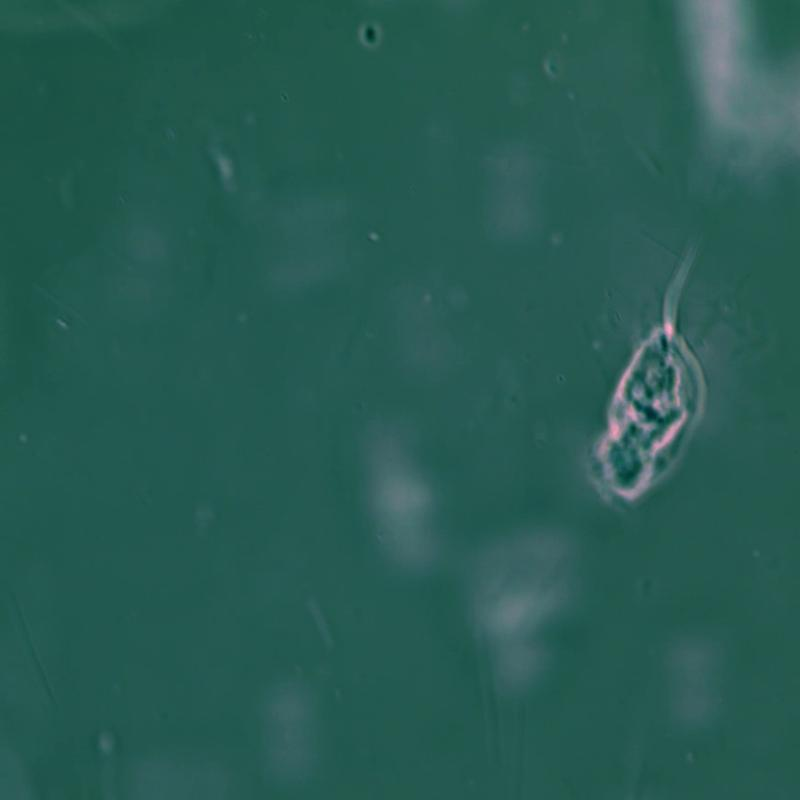depth:40: (580, 224, 758, 544)
